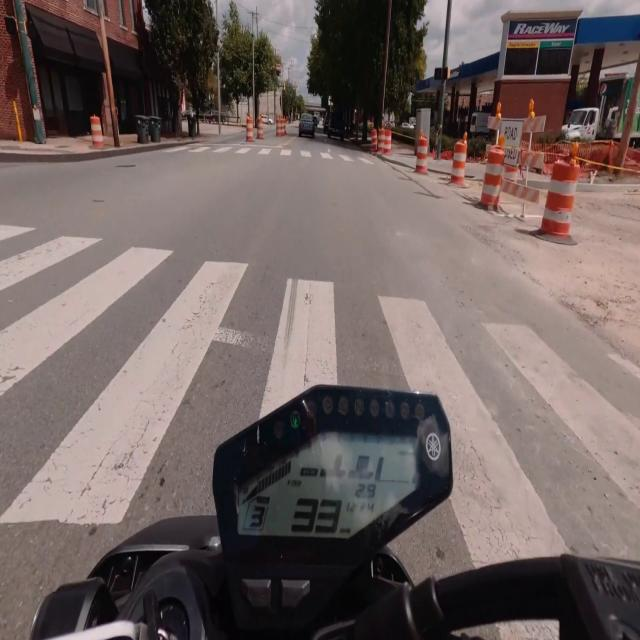car: (327, 111, 345, 140), (299, 114, 314, 137)
motorcycle: (31, 387, 639, 639)
